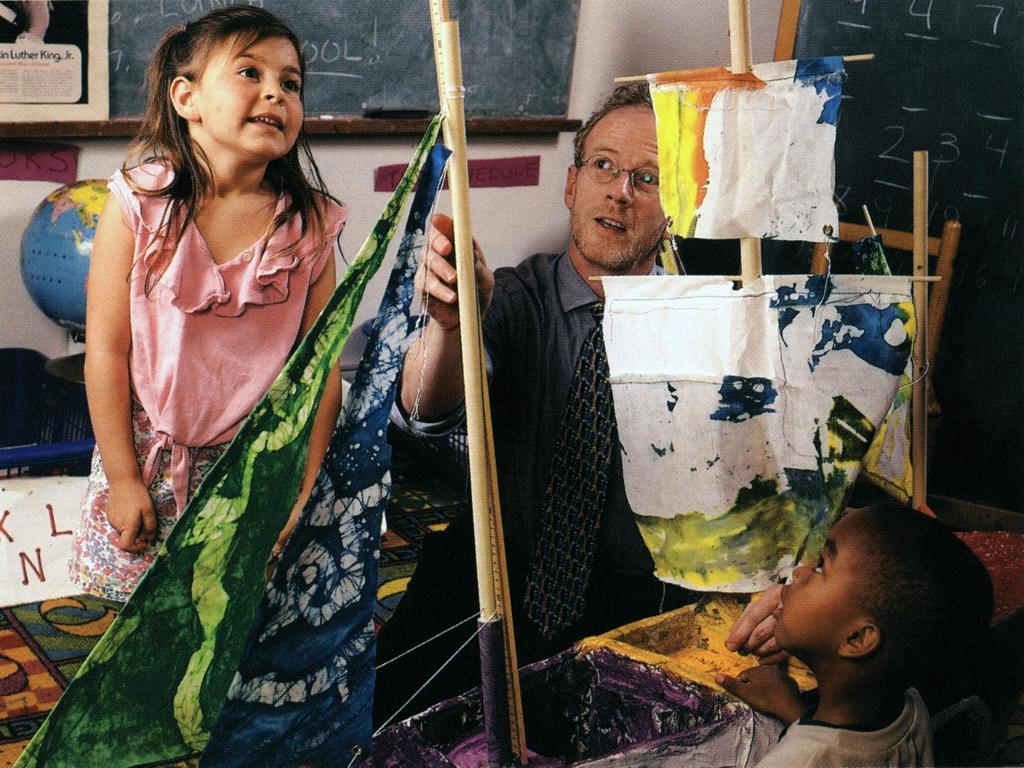face: (776, 512, 880, 656), (576, 110, 668, 252), (202, 26, 300, 152)
